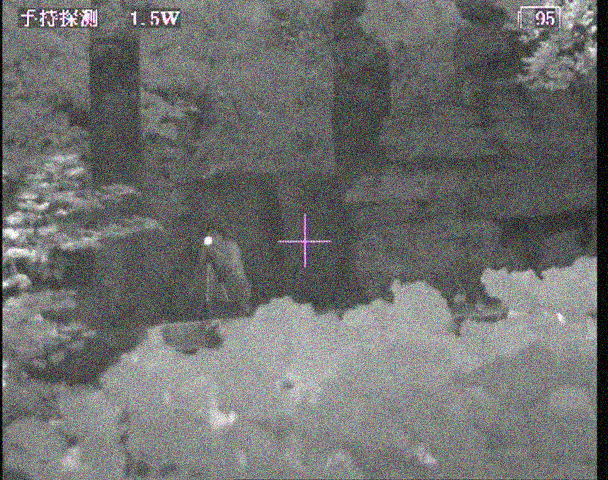my: (203, 235, 213, 247)
